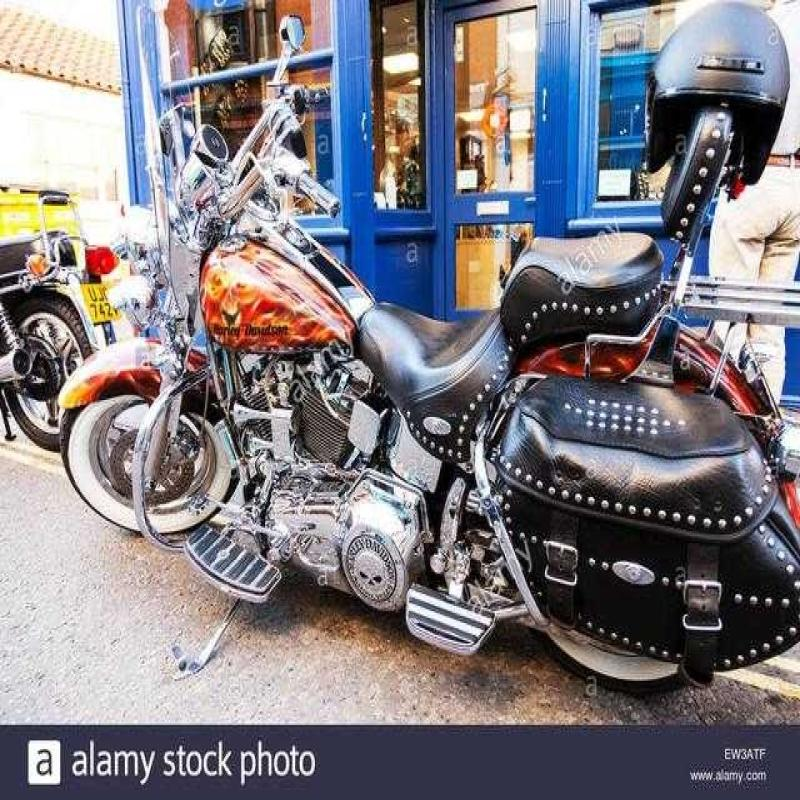bike: (85, 81, 792, 686)
